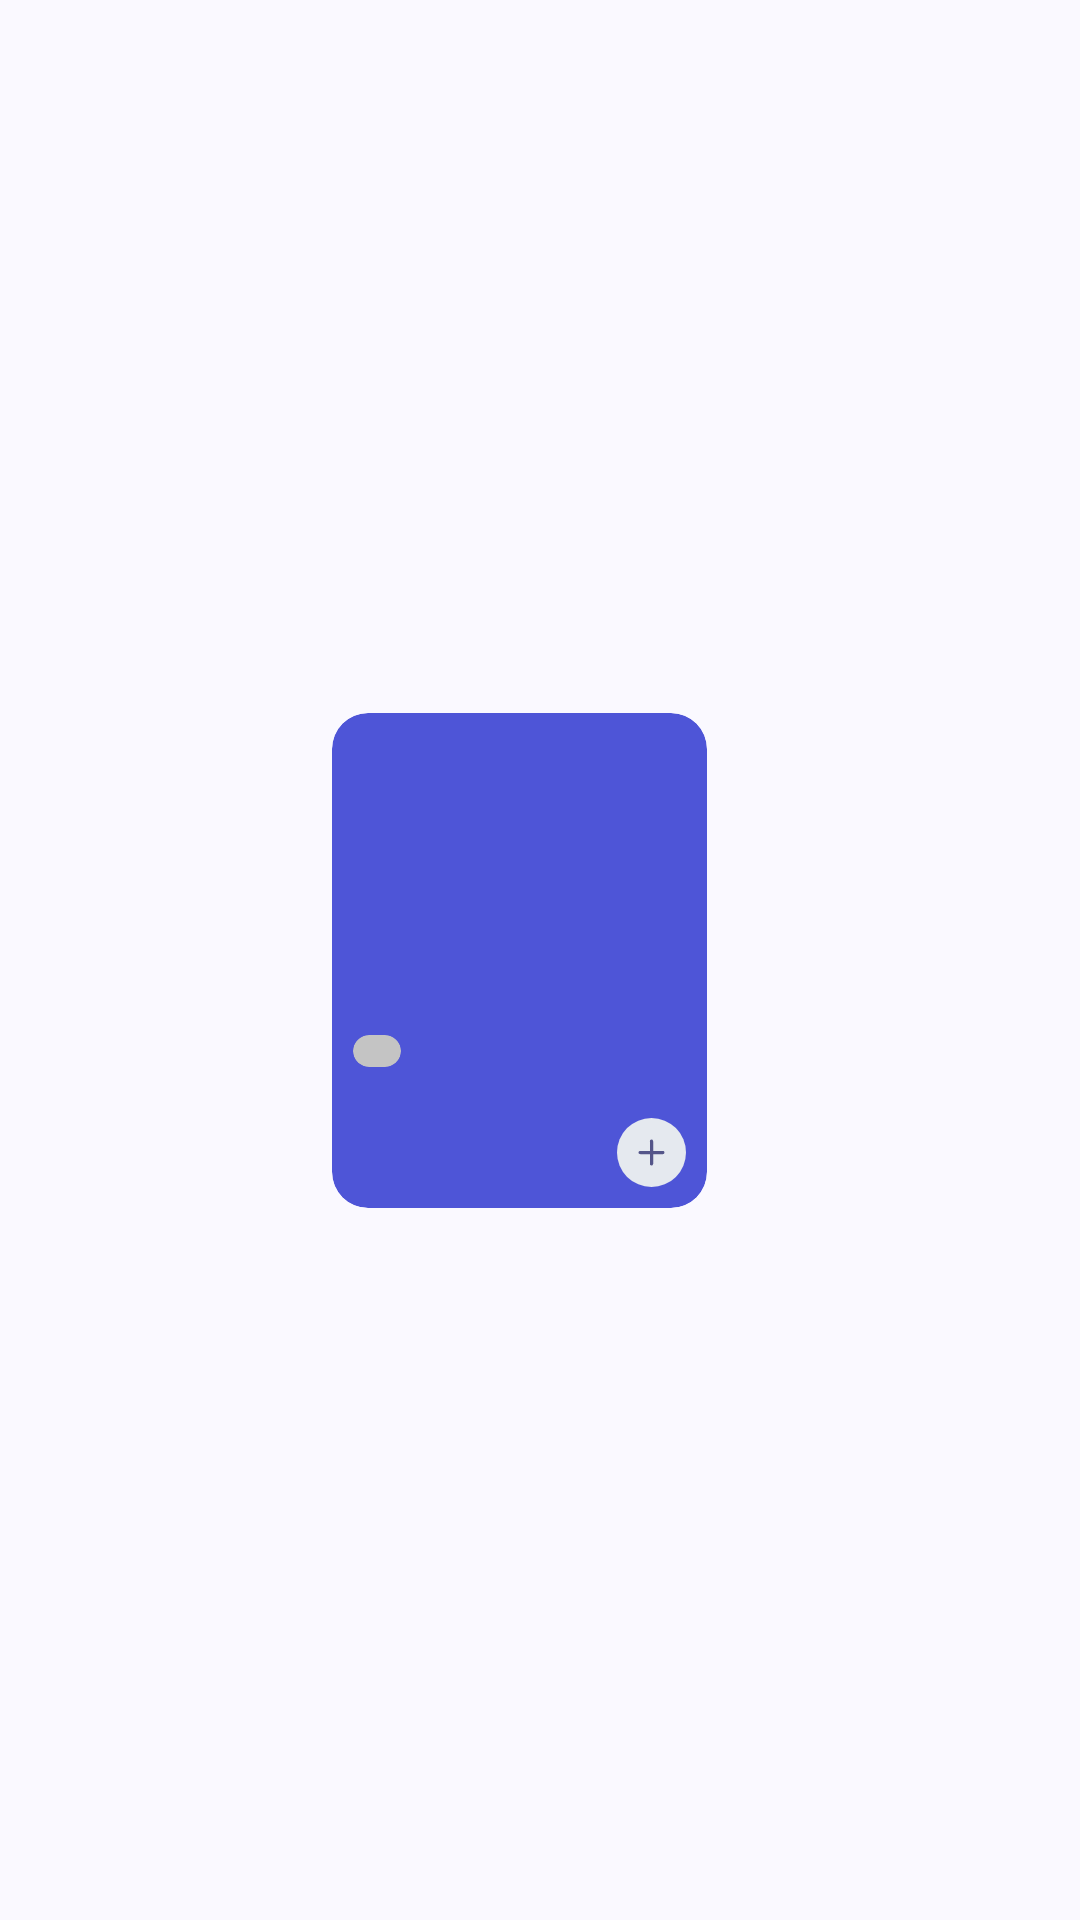

Screen size 1080 × 1920. Icon name, then its center in pixels as [x,y]:
add: [651,1152]
